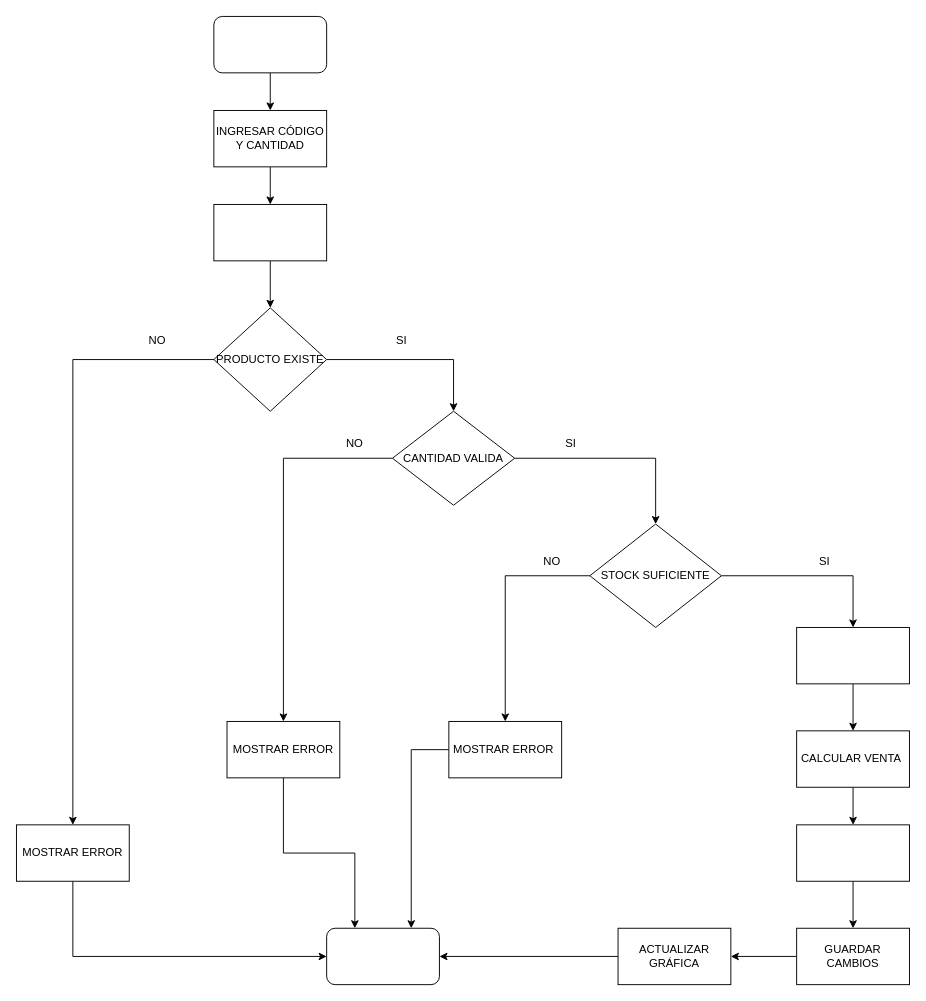
Image size: 926x1001. Some labels were removed from this diagram. Here are the shapes that lost their labels. From the top down, the centre of each, then its label:
At (x=270, y=44): "INICIO".
At (x=270, y=232): "BUSCAR PRODUCTO".
At (x=852, y=655): "DESCONTAR INVENTARIO".
At (x=852, y=852): "ACTUALIZAR TOTAL VENTAS".
At (x=382, y=956): "FIN DE PROCESO".
